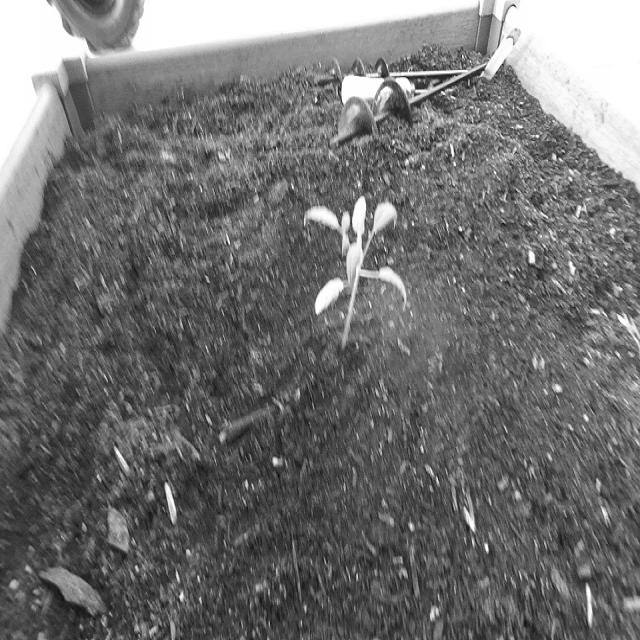Healthy: (298, 185, 416, 362)
